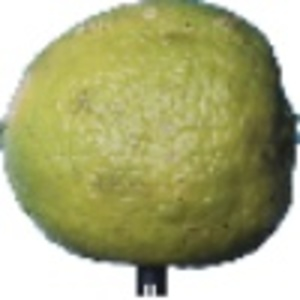limão: (1, 1, 300, 296)
